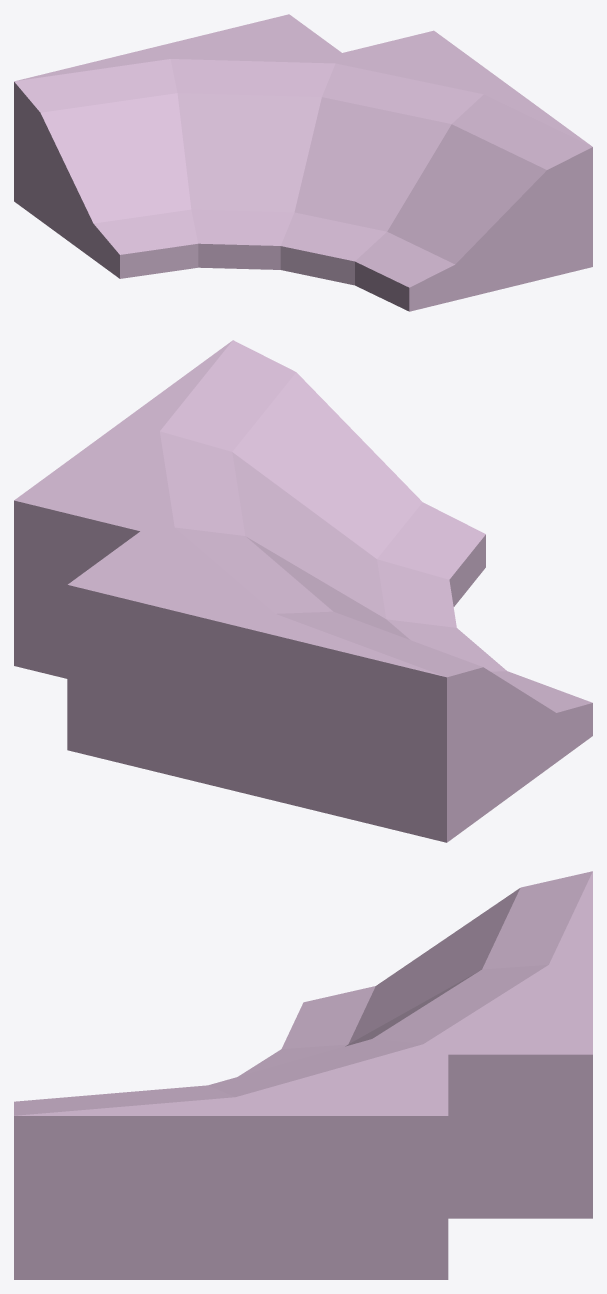
Rendered from Grass_Hill_Sharp_Curve_Inner_4x4.glb.
3 views of the same model, one above another, from view 1: azimuth 30°, elevation 25°; view 2: azimuth 150°, elevation 25°; view 3: azimuth 270°, elevation 25° (orthographic). The views are drawn at different scales.
Visible parts, largest first — view 1: Grass_Hill_Sharp_Curve_Inner_4x4; view 2: Grass_Hill_Sharp_Curve_Inner_4x4; view 3: Grass_Hill_Sharp_Curve_Inner_4x4.
Part boxes in pixels (bbox=[...]): Grass_Hill_Sharp_Curve_Inner_4x4: bbox=[14, 14, 592, 311]; Grass_Hill_Sharp_Curve_Inner_4x4: bbox=[14, 340, 592, 842]; Grass_Hill_Sharp_Curve_Inner_4x4: bbox=[14, 871, 592, 1279].
Size of the model in its own units: 400 by 125 by 400.
